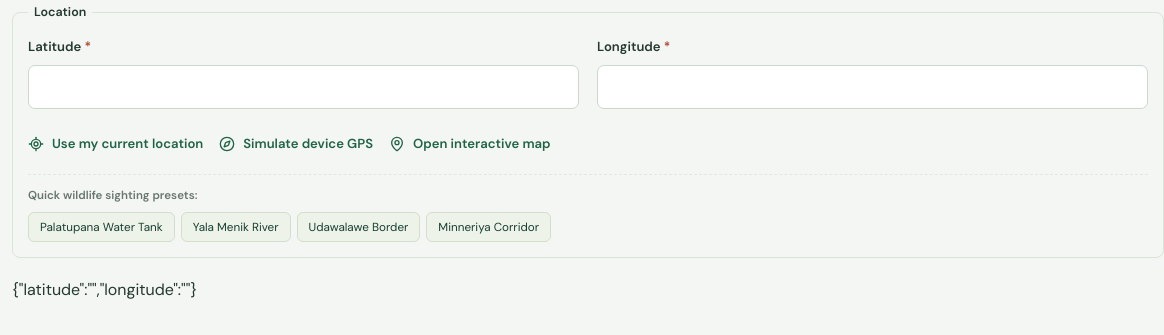
Test case: retries GPS at high accuracy and explains error 1
Click the button "Use my current location".
click(116, 144)  # box [28,128,203,160]
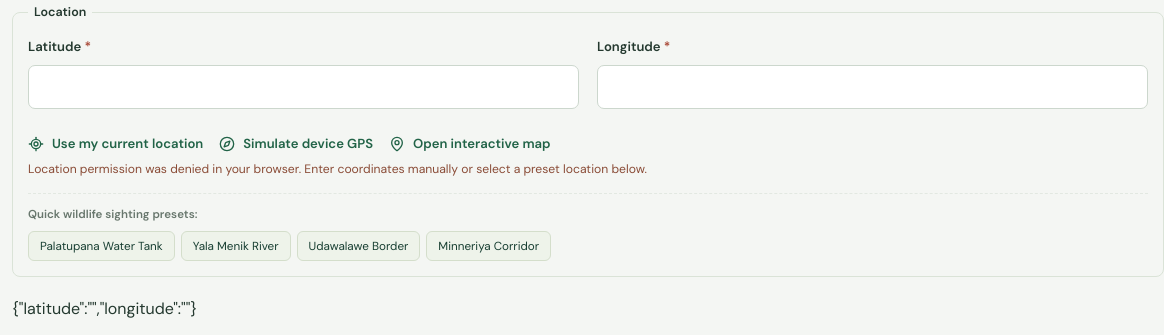
Check: the message shows "permission was denied", box [28,161,647,177]
